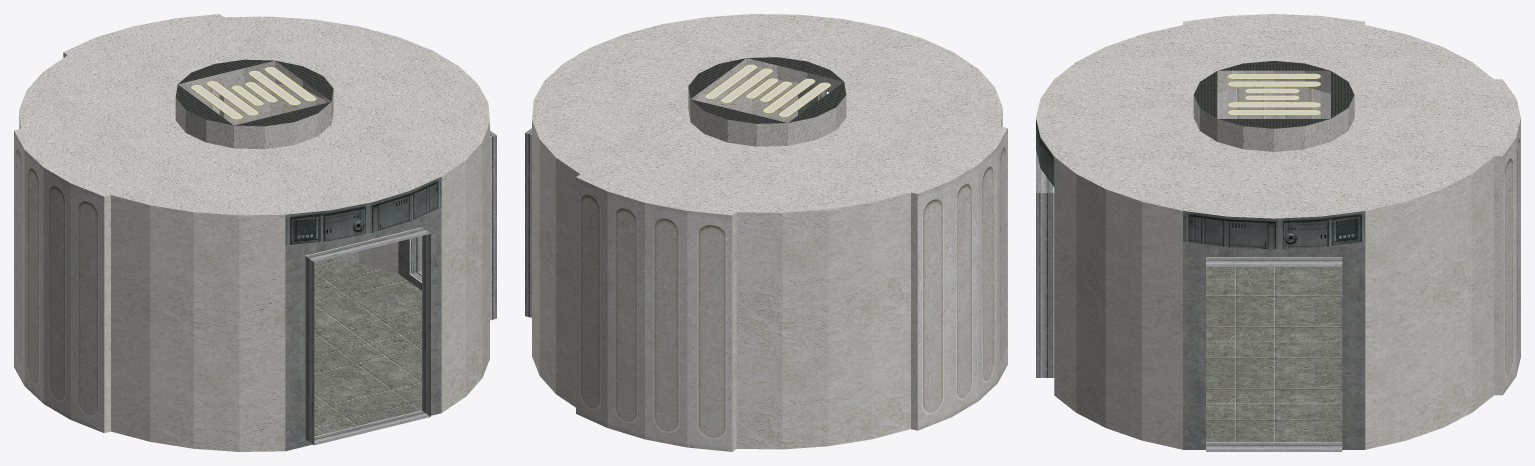
File: ply_all_house_sm_s02_fp1_r1_entry_mesh.fbx
3 renders of one model, left to right at view 1: azimuth 30°, elevation 25°; view 2: azimuth 150°, elevation 25°; view 3: azimuth 270°, elevation 25°, orthographic.
Parts seen in each view (by area): view 1: mesh_node; view 2: mesh_node; view 3: mesh_node.
Boxes of the visible parts, x1,y1,x2,y2 form: mesh_node: (14, 14, 496, 451); mesh_node: (525, 14, 1007, 451); mesh_node: (1036, 14, 1520, 451).
Size of the model in its own units: 7.19 by 4.25 by 7.13.
